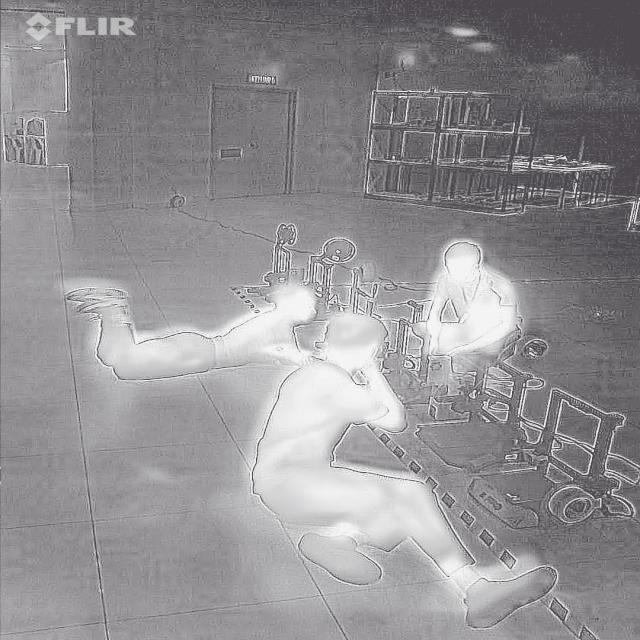Victim: (238, 304, 560, 633), (58, 270, 330, 386), (404, 230, 534, 368)
